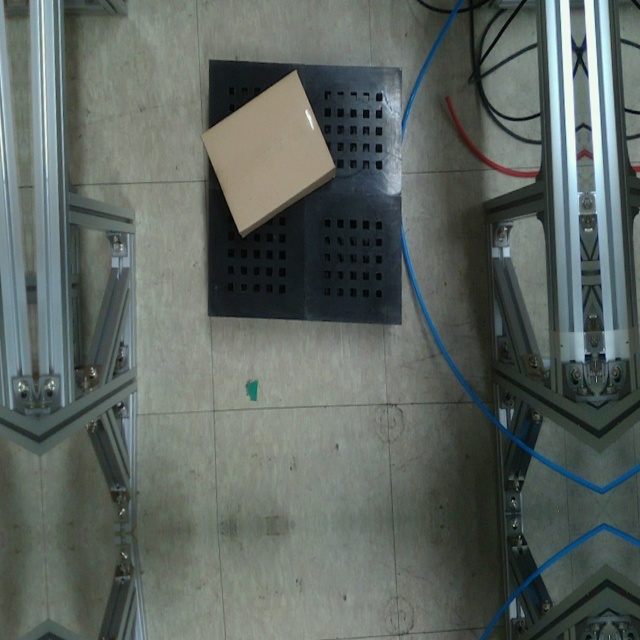box: (199, 69, 340, 236)
pallet: (202, 55, 407, 328)
